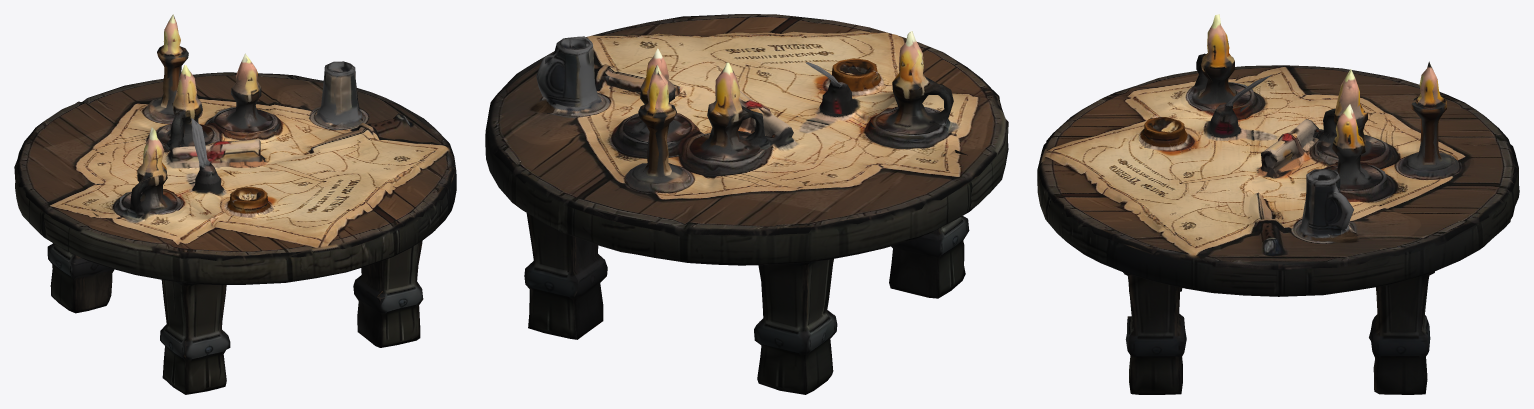
The model's file is war_table2.glb.
3 views of the same model, side by side, from view 1: azimuth 30°, elevation 25°; view 2: azimuth 150°, elevation 25°; view 3: azimuth 270°, elevation 25° (orthographic). The views are drawn at different scales.
Visible parts, largest first — view 1: Table; view 2: Table; view 3: Table.
Part boxes in pixels (box(x1,y1,x2,y2)): Table: box(14, 14, 456, 394); Table: box(485, 14, 1008, 394); Table: box(1037, 14, 1519, 394).
Bounding box in the file's own units: 1.9 × 1.2 × 1.9.
1 material, 1 textured.
